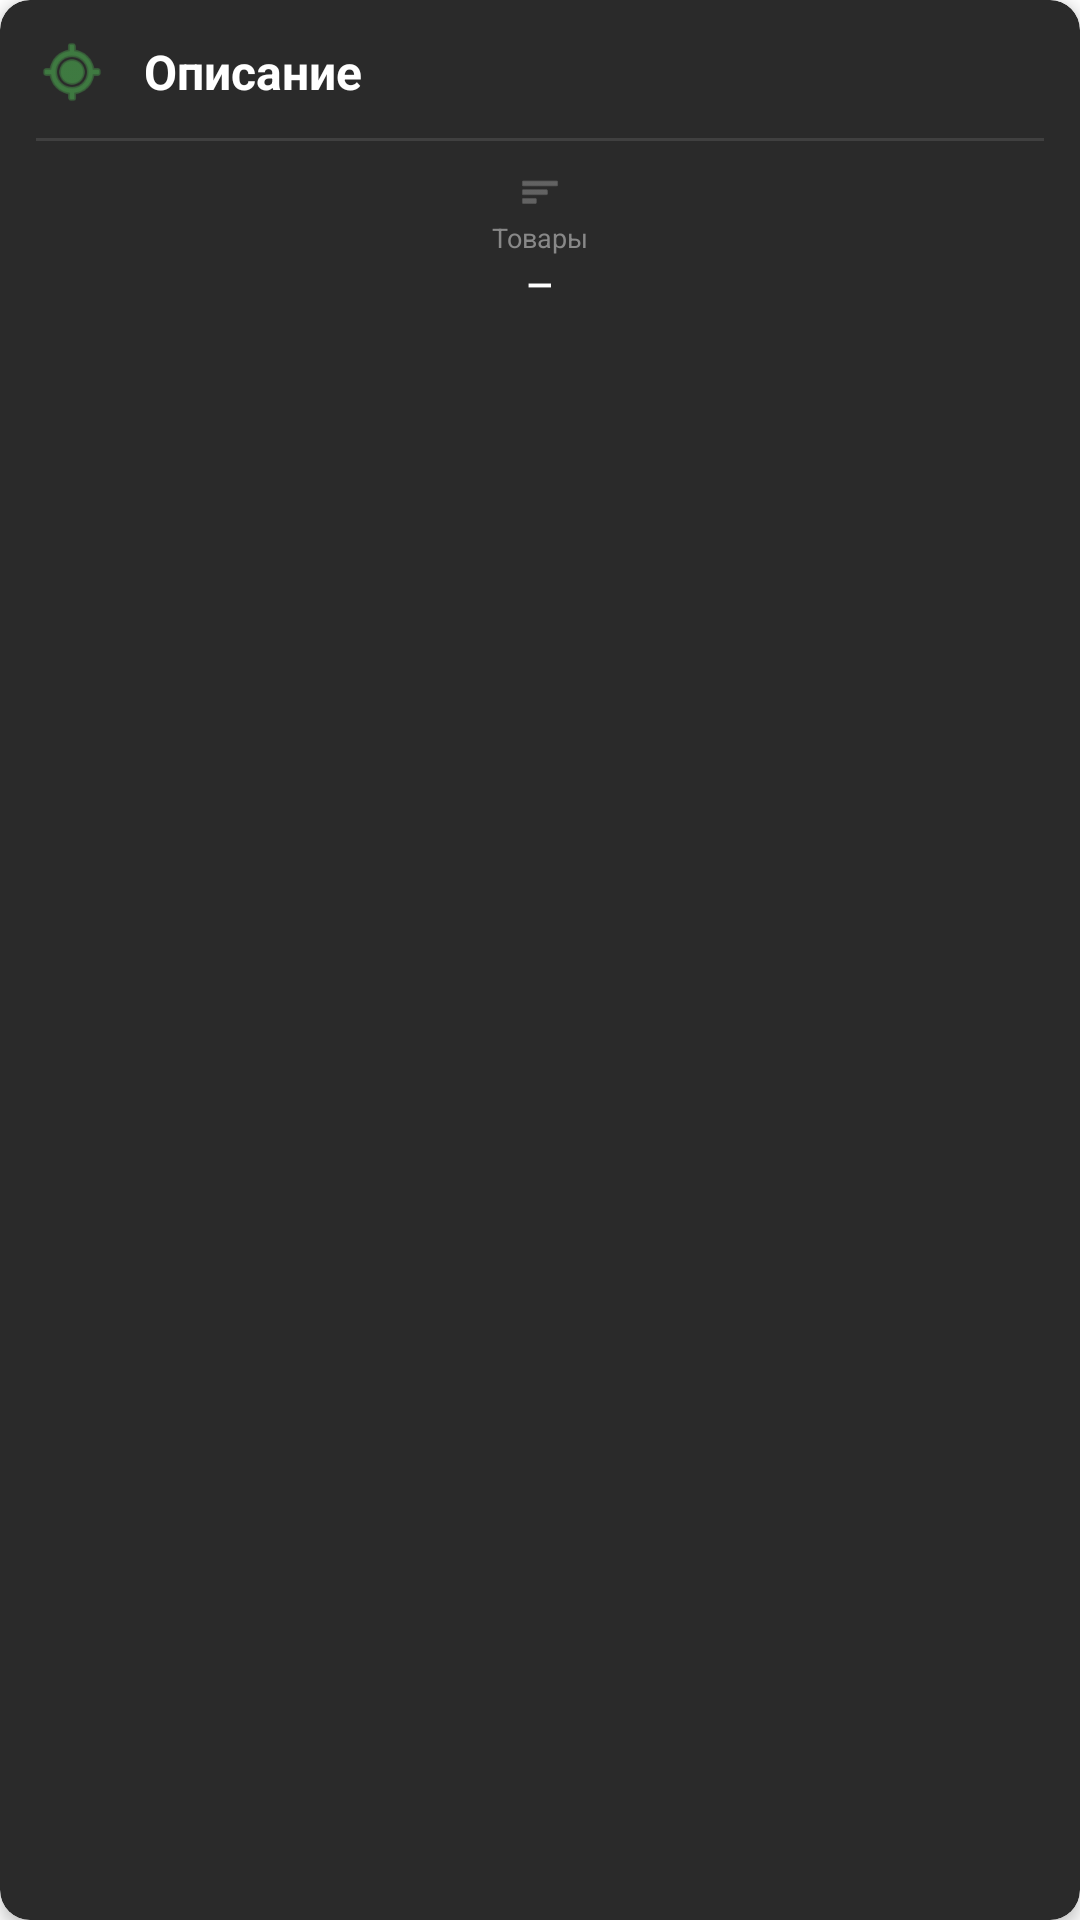

Screen size 1080 × 1920. Icon name, then its center in pixels as [x,y]:
mylocation: [72,72]
sort by size: [540,192]
